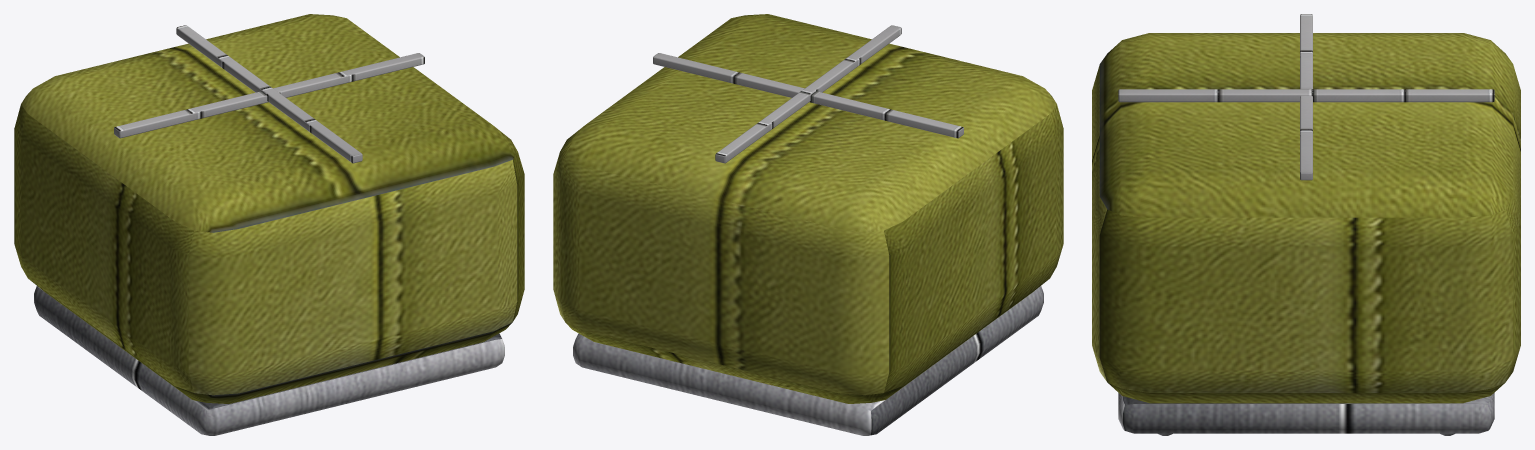
File: hp_l4_cineclinic_lime_ottoman.glb
3 views of the same model, side by side, from view 1: azimuth 30°, elevation 25°; view 2: azimuth 150°, elevation 25°; view 3: azimuth 270°, elevation 25° (orthographic). The views are drawn at different scales.
Visible parts, largest first — view 1: lime_soft_cube, metal_shadow_plinth, stitched_top_cross_x, stitched_top_cross_y; view 2: lime_soft_cube, metal_shadow_plinth, stitched_top_cross_x, stitched_top_cross_y; view 3: lime_soft_cube, metal_shadow_plinth, stitched_top_cross_y, stitched_top_cross_x.
Boxes of the visible parts, x1=… form: lime_soft_cube: x1=14, y1=14, x2=524, y2=403; metal_shadow_plinth: x1=34, y1=286, x2=504, y2=435; stitched_top_cross_x: x1=114, y1=53, x2=424, y2=138; stitched_top_cross_y: x1=176, y1=25, x2=362, y2=163; lime_soft_cube: x1=553, y1=14, x2=1063, y2=403; metal_shadow_plinth: x1=573, y1=286, x2=1043, y2=435; stitched_top_cross_x: x1=653, y1=53, x2=963, y2=138; stitched_top_cross_y: x1=715, y1=25, x2=901, y2=163; lime_soft_cube: x1=1092, y1=33, x2=1520, y2=403; metal_shadow_plinth: x1=1118, y1=393, x2=1494, y2=433; stitched_top_cross_y: x1=1118, y1=89, x2=1494, y2=102; stitched_top_cross_x: x1=1300, y1=14, x2=1312, y2=180.
Bounding box in the file's own units: 0.82 × 0.597 × 0.82.
3 materials, 3 textured.
